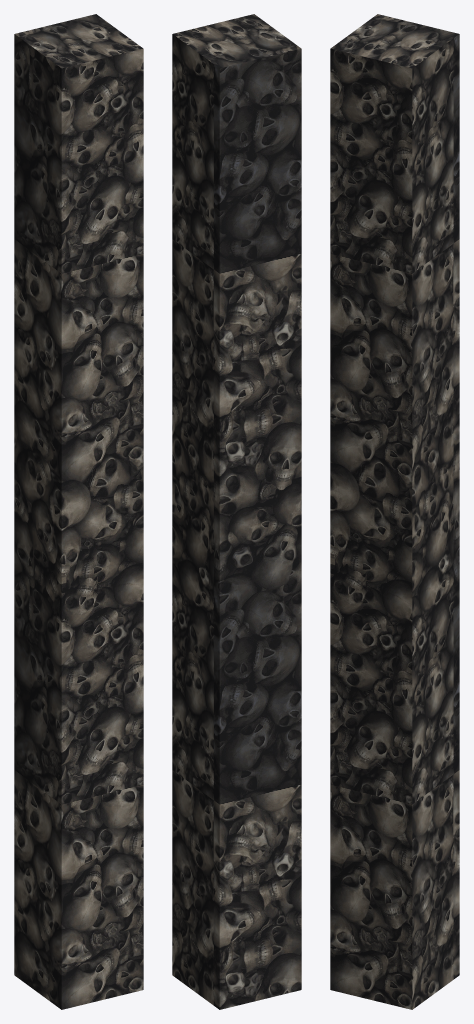
The model's file is SkullPillar.fbx.
3 renders of one model, left to right at view 1: azimuth 30°, elevation 25°; view 2: azimuth 210°, elevation 25°; view 3: azimuth 330°, elevation 25°, orthographic.
Parts seen in each view (by area): view 1: Cube; view 2: Cube; view 3: Cube.
Part boxes in pixels (bbox=[...]): Cube: bbox=[14, 14, 143, 1009]; Cube: bbox=[172, 14, 301, 1009]; Cube: bbox=[330, 14, 459, 1009].
Size of the model in its own units: 200 by 2200 by 200.
1 material, 1 textured.
